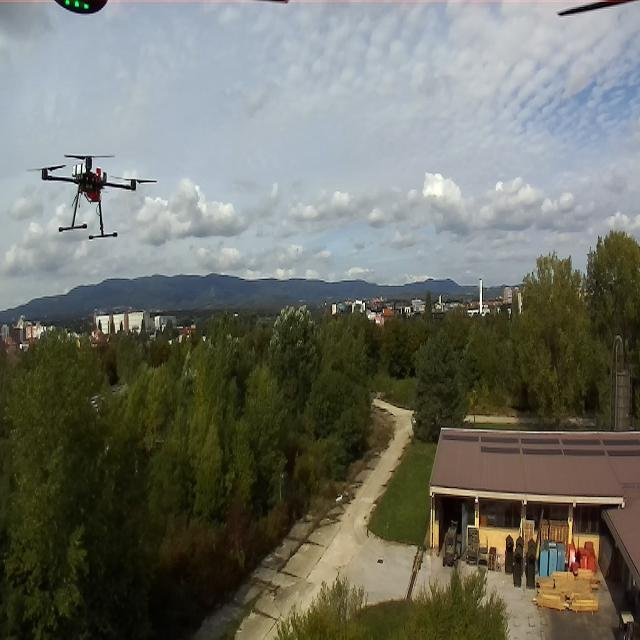UAV: (32, 155, 158, 238)
